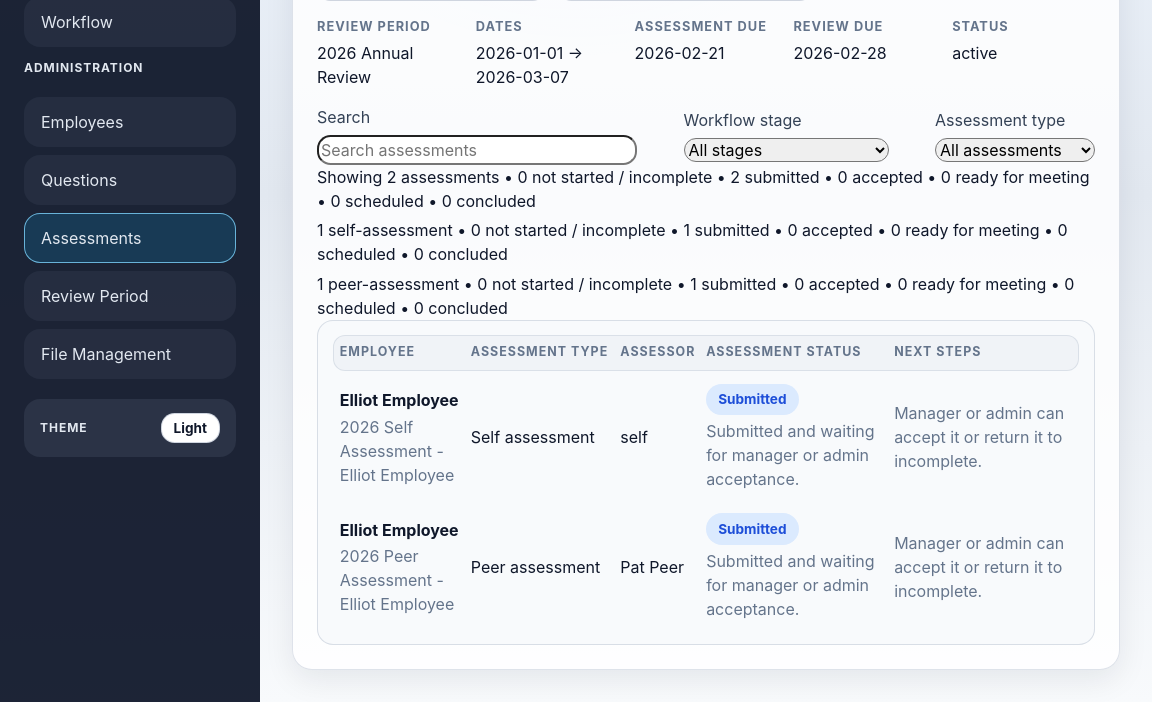
Scenario: workflow entry › opens submitted review actions from the admin assessments page
(page scrolled)
Click the 1st button with class "assessment-row-card-clickable".
click(706, 437)  # box [333,374,1079,501]
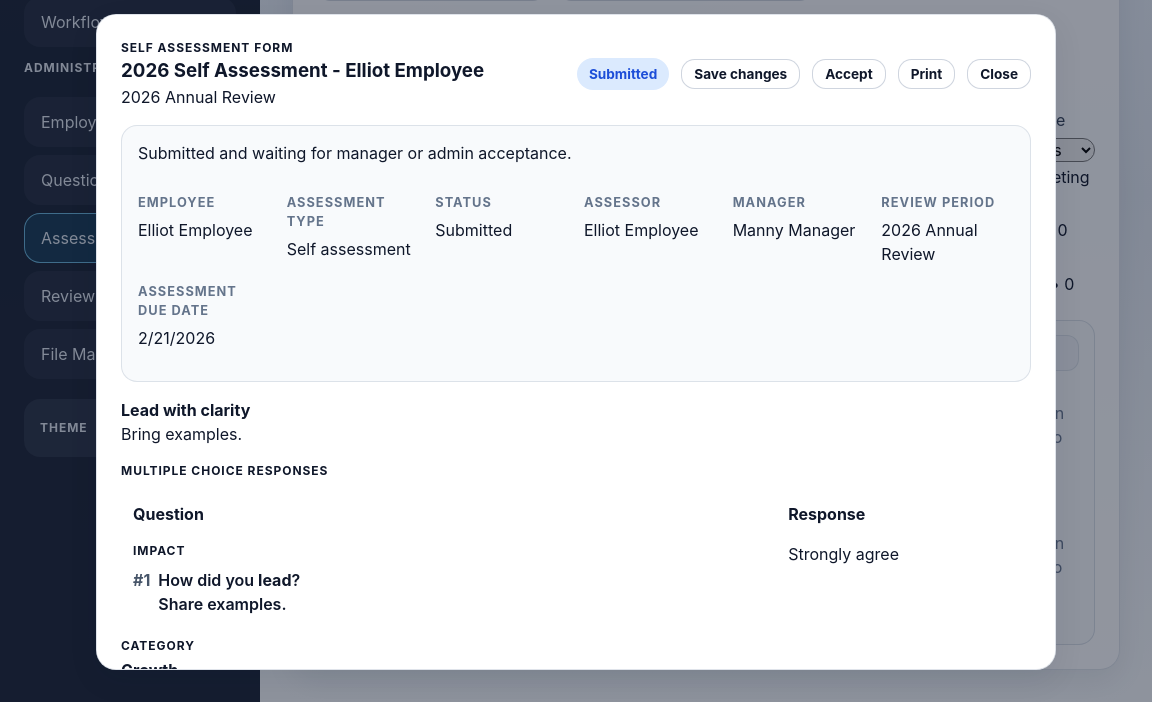
Expected: the text "Self assessment form" is shown, [121,40,293,55]
Expected: the text "Save changes" is shown, [681,59,800,89]
